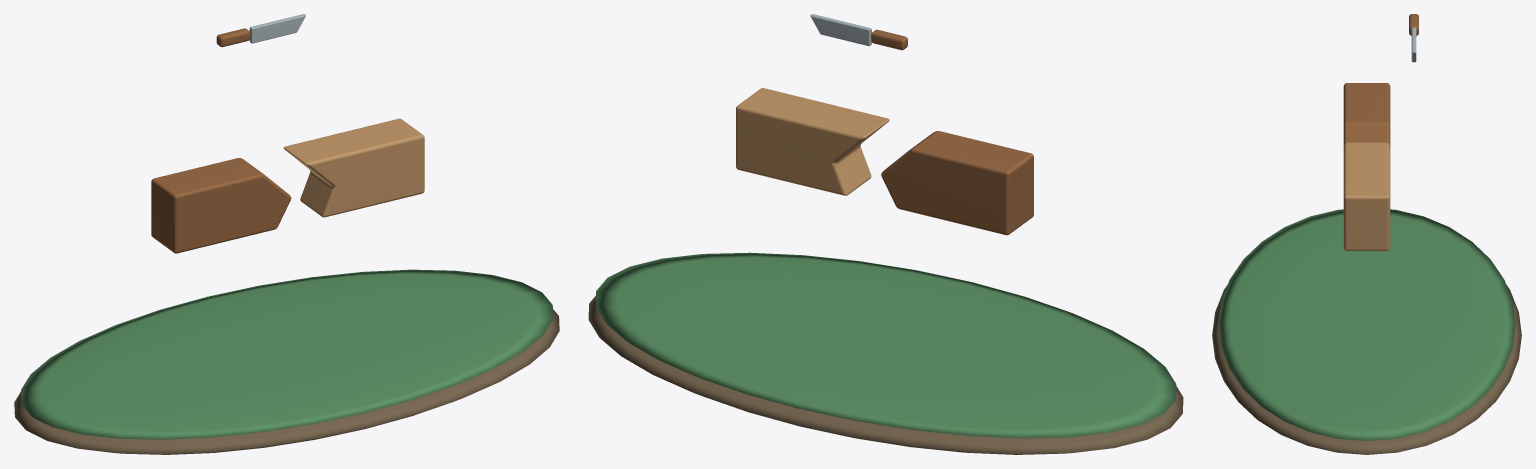
The model's file is complete-third-snapped-bar.glb.
3 views of the same model, side by side, from view 1: azimuth 30°, elevation 25°; view 2: azimuth 150°, elevation 25°; view 3: azimuth 270°, elevation 25° (orthographic). The views are drawn at different scales.
Visible parts, largest first — view 1: complete-third-snapped-bar_surface_01, complete-third-snapped-bar_surface_02, complete-third-snapped-bar_surface_03, complete-third-snapped-bar_surface_00, complete-third-snapped-bar_surface_04; view 2: complete-third-snapped-bar_surface_01, complete-third-snapped-bar_surface_02, complete-third-snapped-bar_surface_03, complete-third-snapped-bar_surface_00, complete-third-snapped-bar_surface_04; view 3: complete-third-snapped-bar_surface_01, complete-third-snapped-bar_surface_00, complete-third-snapped-bar_surface_03, complete-third-snapped-bar_surface_02.
Part boxes in pixels (<box>): complete-third-snapped-bar_surface_01: <box>21,269,552,439</box>; complete-third-snapped-bar_surface_02: <box>151,28,291,253</box>; complete-third-snapped-bar_surface_03: <box>283,118,424,217</box>; complete-third-snapped-bar_surface_00: <box>14,309,559,454</box>; complete-third-snapped-bar_surface_04: <box>249,14,305,43</box>; complete-third-snapped-bar_surface_01: <box>595,252,1176,438</box>; complete-third-snapped-bar_surface_02: <box>871,29,1033,235</box>; complete-third-snapped-bar_surface_03: <box>736,88,889,195</box>; complete-third-snapped-bar_surface_00: <box>588,296,1183,454</box>; complete-third-snapped-bar_surface_04: <box>810,14,871,46</box>; complete-third-snapped-bar_surface_01: <box>1218,209,1515,440</box>; complete-third-snapped-bar_surface_00: <box>1212,285,1521,454</box>; complete-third-snapped-bar_surface_03: <box>1343,142,1390,250</box>; complete-third-snapped-bar_surface_02: <box>1343,14,1418,147</box>.
Bounding box in the file's own units: 4.56 × 2.83 × 2.5.
